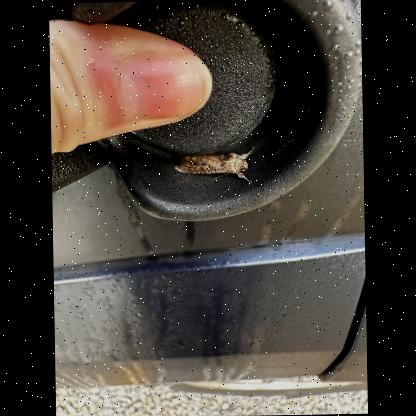Fall Armyworm Moth: (171, 145, 256, 185)
